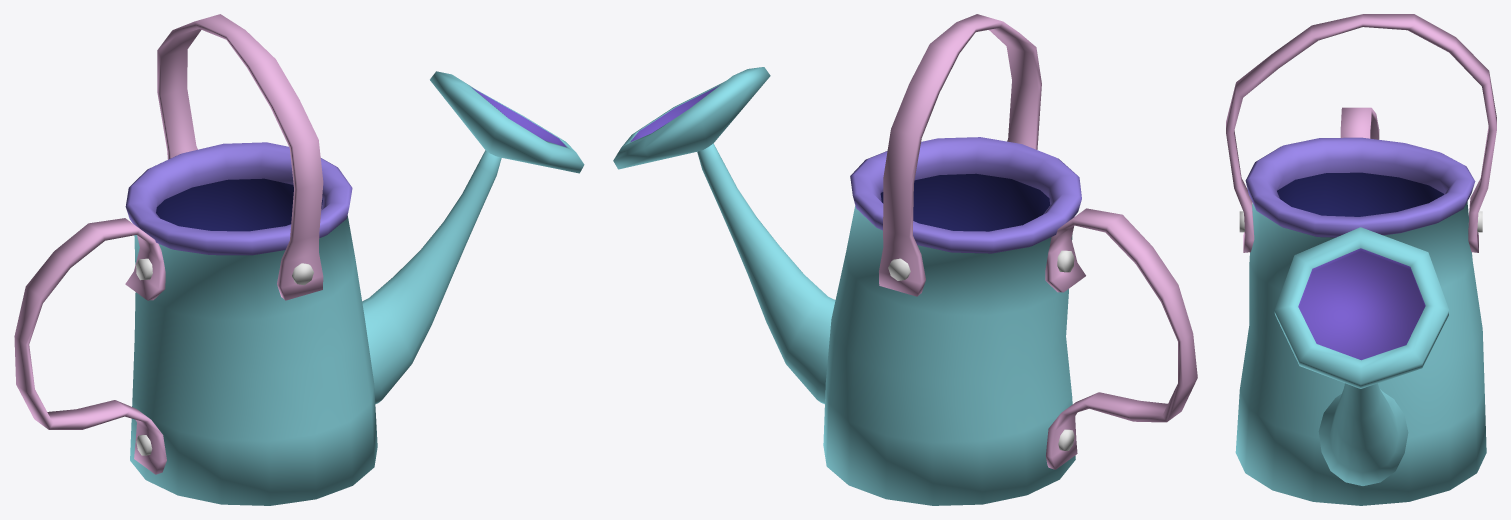
Rendered from WateringCan (2).glb.
3 renders of one model, left to right at view 1: azimuth 30°, elevation 25°; view 2: azimuth 150°, elevation 25°; view 3: azimuth 270°, elevation 25°, orthographic.
Visible parts, largest first — view 1: Cylinder, Plane, Plane.001, Cone; view 2: Cylinder, Plane, Plane.001, Cone; view 3: Cylinder, Cone, Plane, Plane.001.
Boxes of the visible parts, bbox=[...] form: Cylinder: bbox=[125, 142, 501, 505]; Plane: bbox=[157, 14, 323, 300]; Plane.001: bbox=[14, 218, 166, 474]; Cone: bbox=[430, 71, 584, 173]; Cylinder: bbox=[697, 137, 1081, 505]; Plane: bbox=[879, 14, 1041, 296]; Plane.001: bbox=[1045, 208, 1197, 469]; Cone: bbox=[613, 67, 770, 169]; Cylinder: bbox=[1235, 137, 1486, 505]; Cone: bbox=[1274, 227, 1448, 388]; Plane: bbox=[1226, 14, 1496, 252]; Plane.001: bbox=[1340, 107, 1379, 139].
Size of the model in its own units: 5.78 by 4.25 by 2.45.
